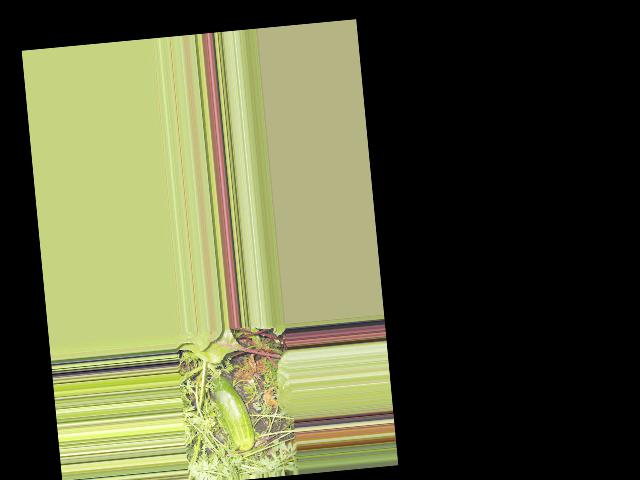cucumber: (210, 373, 255, 451)
